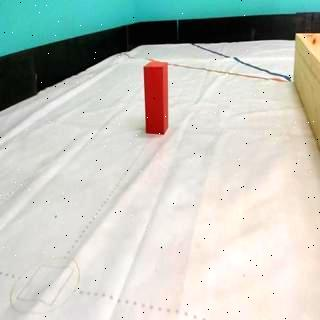redbox: (144, 60, 168, 135)
